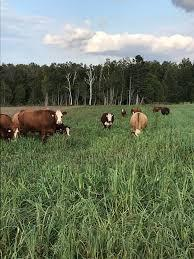cow: (13, 109, 65, 141), (0, 115, 21, 140), (130, 113, 149, 136), (101, 113, 115, 129), (55, 124, 71, 137), (151, 105, 167, 113), (131, 105, 143, 113), (161, 108, 171, 115), (120, 109, 128, 116)
